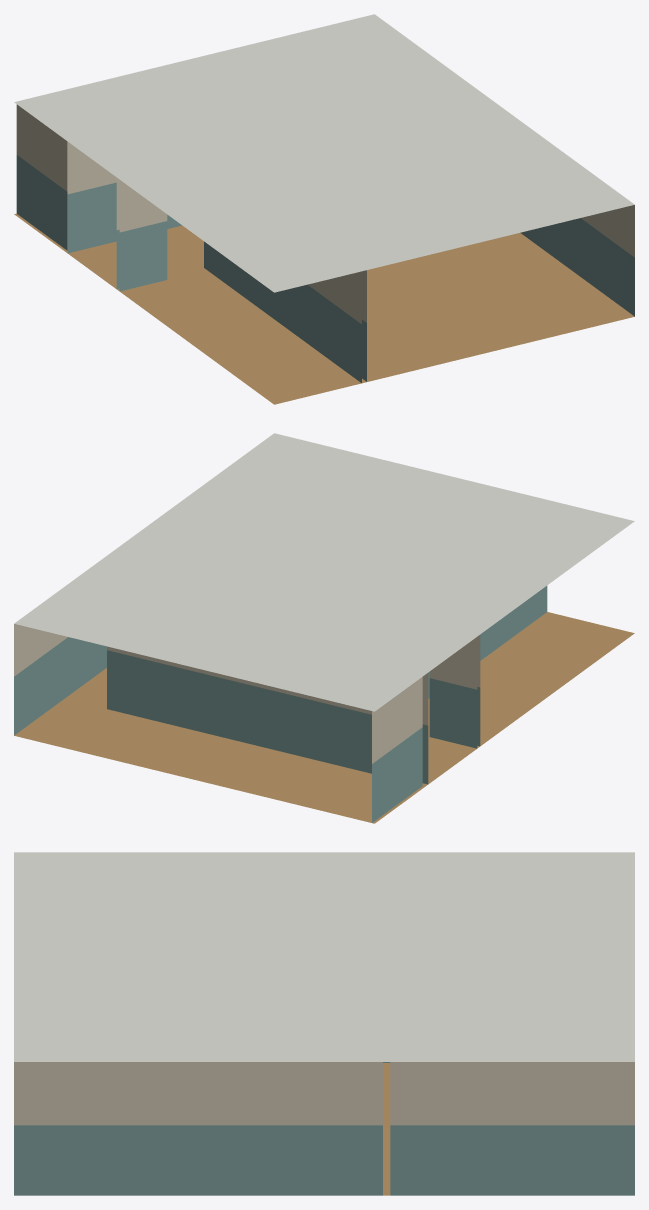
Rendered from chunk_4_2.glb.
3 renders of one model, top to bottom at view 1: azimuth 30°, elevation 25°; view 2: azimuth 150°, elevation 25°; view 3: azimuth 270°, elevation 25°, orthographic. The views are drawn at different scales.
Visible parts, largest first — view 1: chunk_4_2; view 2: chunk_4_2; view 3: chunk_4_2.
Boxes of the visible parts, x1,y1,x2,y2 form: chunk_4_2: (14, 14, 634, 404); chunk_4_2: (14, 433, 634, 823); chunk_4_2: (14, 852, 634, 1195).
Bounding box in the file's own units: 9.6 × 2.85 × 12.
